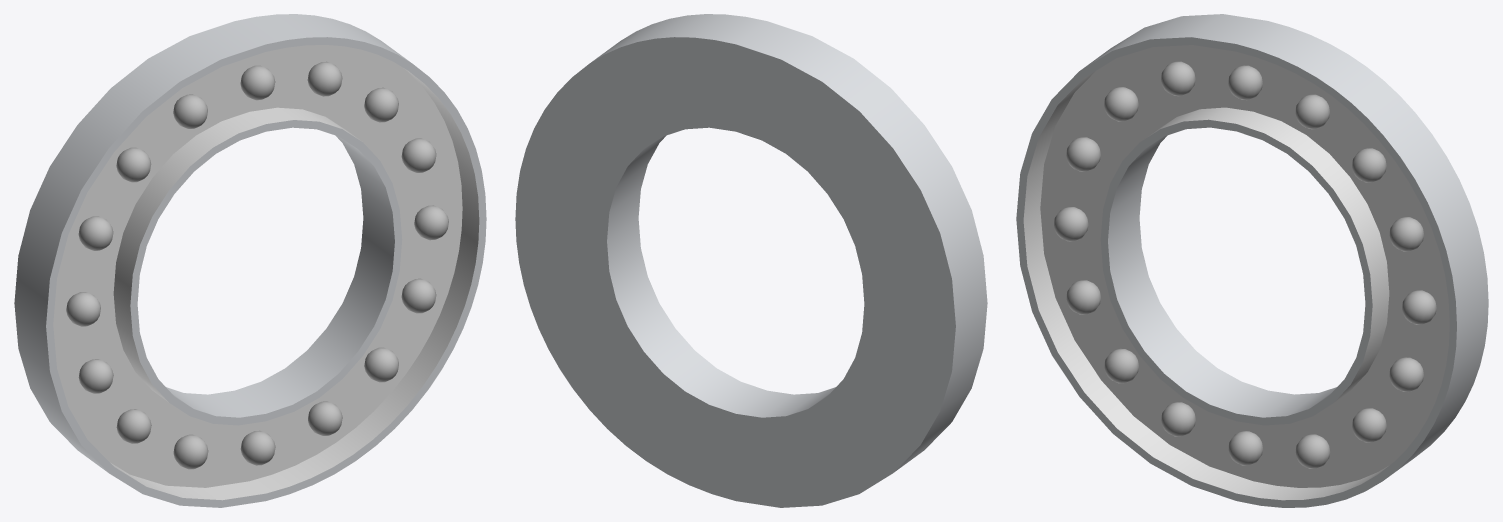
File: LettersBulb01_O.FBX
3 views of the same model, side by side, from view 1: azimuth 30°, elevation 25°; view 2: azimuth 150°, elevation 25°; view 3: azimuth 330°, elevation 25° (orthographic).
Visible parts, largest first — view 1: LettersBulb01_O; view 2: LettersBulb01_O; view 3: LettersBulb01_O.
Boxes of the visible parts, bbox=[...] form: LettersBulb01_O: bbox=[14, 14, 486, 507]; LettersBulb01_O: bbox=[515, 14, 987, 507]; LettersBulb01_O: bbox=[1016, 14, 1488, 507].
Size of what is drawn, in the model's own units: 1.25 by 1.24 by 0.1563.
